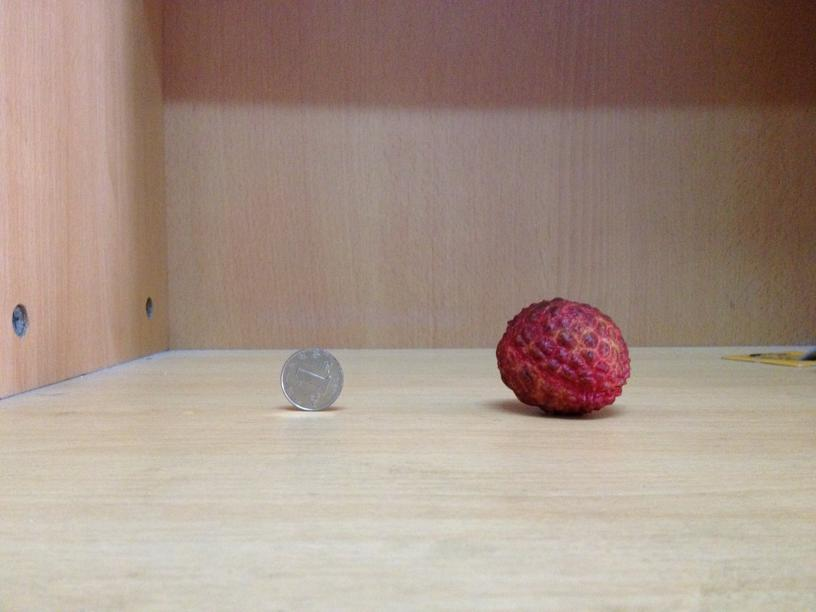coin: (278, 347, 343, 412)
litchi: (496, 296, 630, 414)
